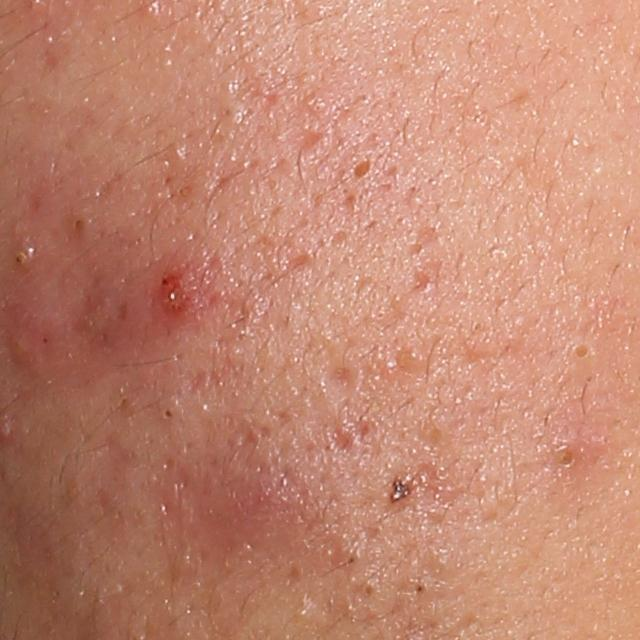atrophic_scar: (70, 280, 129, 353), (320, 361, 367, 406), (325, 421, 363, 458), (281, 255, 313, 274), (413, 267, 431, 294)
comedo: (61, 206, 98, 248), (344, 152, 380, 188), (546, 443, 582, 477), (9, 241, 42, 274), (567, 335, 598, 369), (400, 344, 429, 374), (407, 576, 435, 607), (355, 578, 380, 606), (340, 547, 360, 572)
nevus: (383, 468, 421, 508)
papule: (152, 258, 205, 331)
